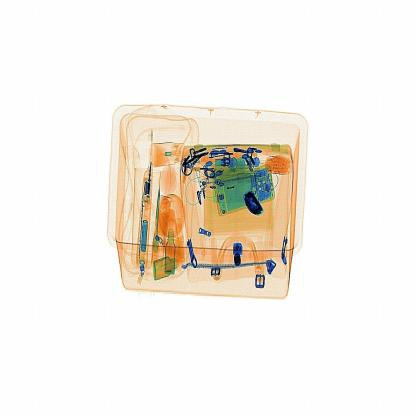scissors: (238, 184, 272, 229)
